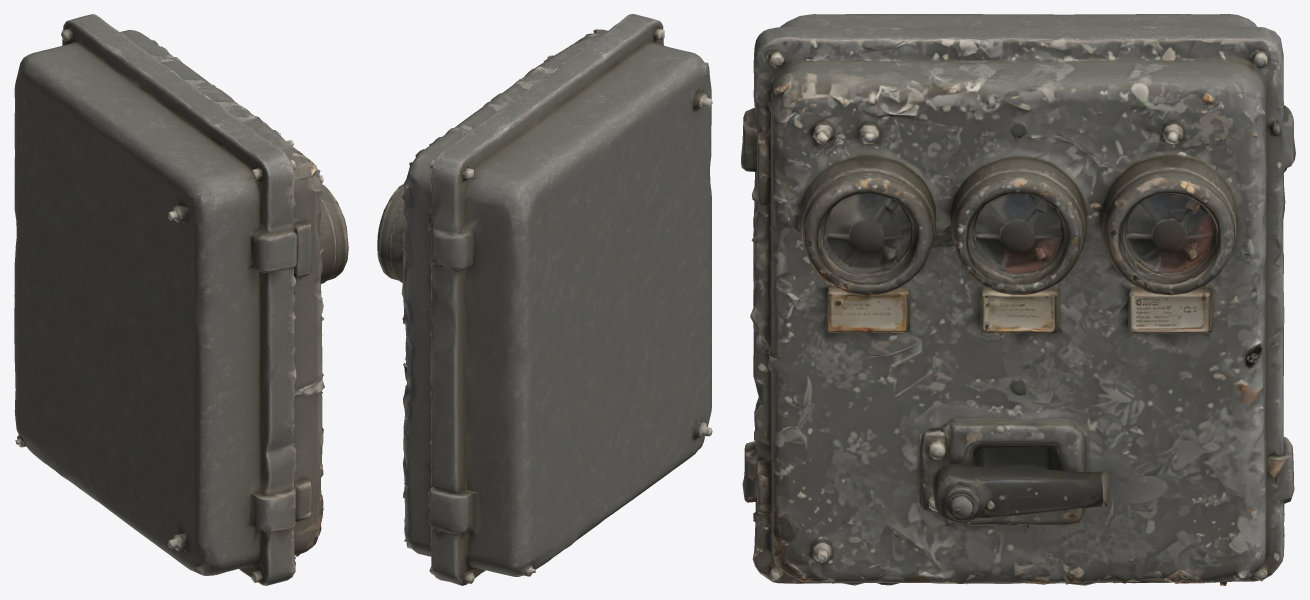
The picture shows the model from 3 angles, left to right: view 1: azimuth 30°, elevation 25°; view 2: azimuth 150°, elevation 25°; view 3: azimuth 270°, elevation 25°; orthographic projection. The views are drawn at different scales.
Visible parts, largest first — view 1: tripo_node_28b59662-ae19-4e92-acfa-3a2101ed8252; view 2: tripo_node_28b59662-ae19-4e92-acfa-3a2101ed8252; view 3: tripo_node_28b59662-ae19-4e92-acfa-3a2101ed8252.
Boxes of the visible parts, x1=… form: tripo_node_28b59662-ae19-4e92-acfa-3a2101ed8252: x1=14, y1=14, x2=348, y2=585; tripo_node_28b59662-ae19-4e92-acfa-3a2101ed8252: x1=377, y1=14, x2=712, y2=585; tripo_node_28b59662-ae19-4e92-acfa-3a2101ed8252: x1=741, y1=14, x2=1295, y2=585.
Bounding box in the file's own units: 0.4738 × 1 × 0.9177.
Materials: 1 (1 with a texture image).
